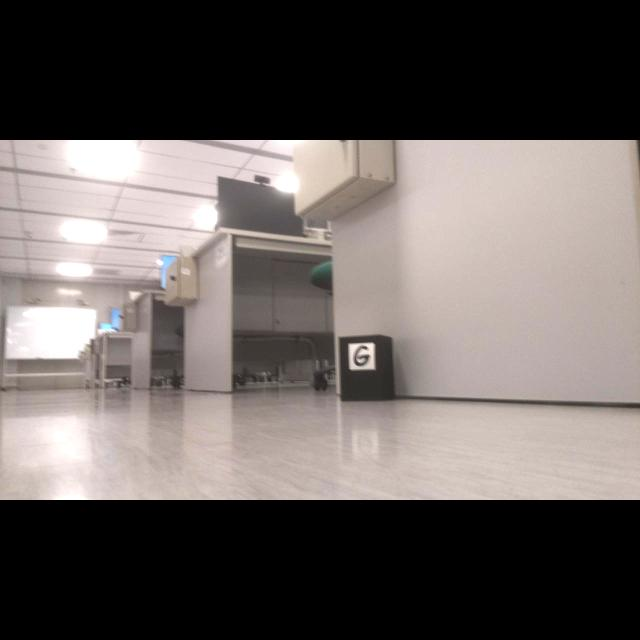G: (352, 344, 370, 367)
